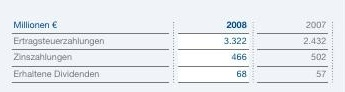table: (0, 0, 345, 92)
